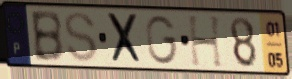8: (228, 15, 258, 70)
B: (28, 8, 66, 64)
G: (144, 14, 180, 67)
H: (186, 14, 226, 70)
S: (62, 10, 99, 65)
X: (104, 11, 146, 66)
